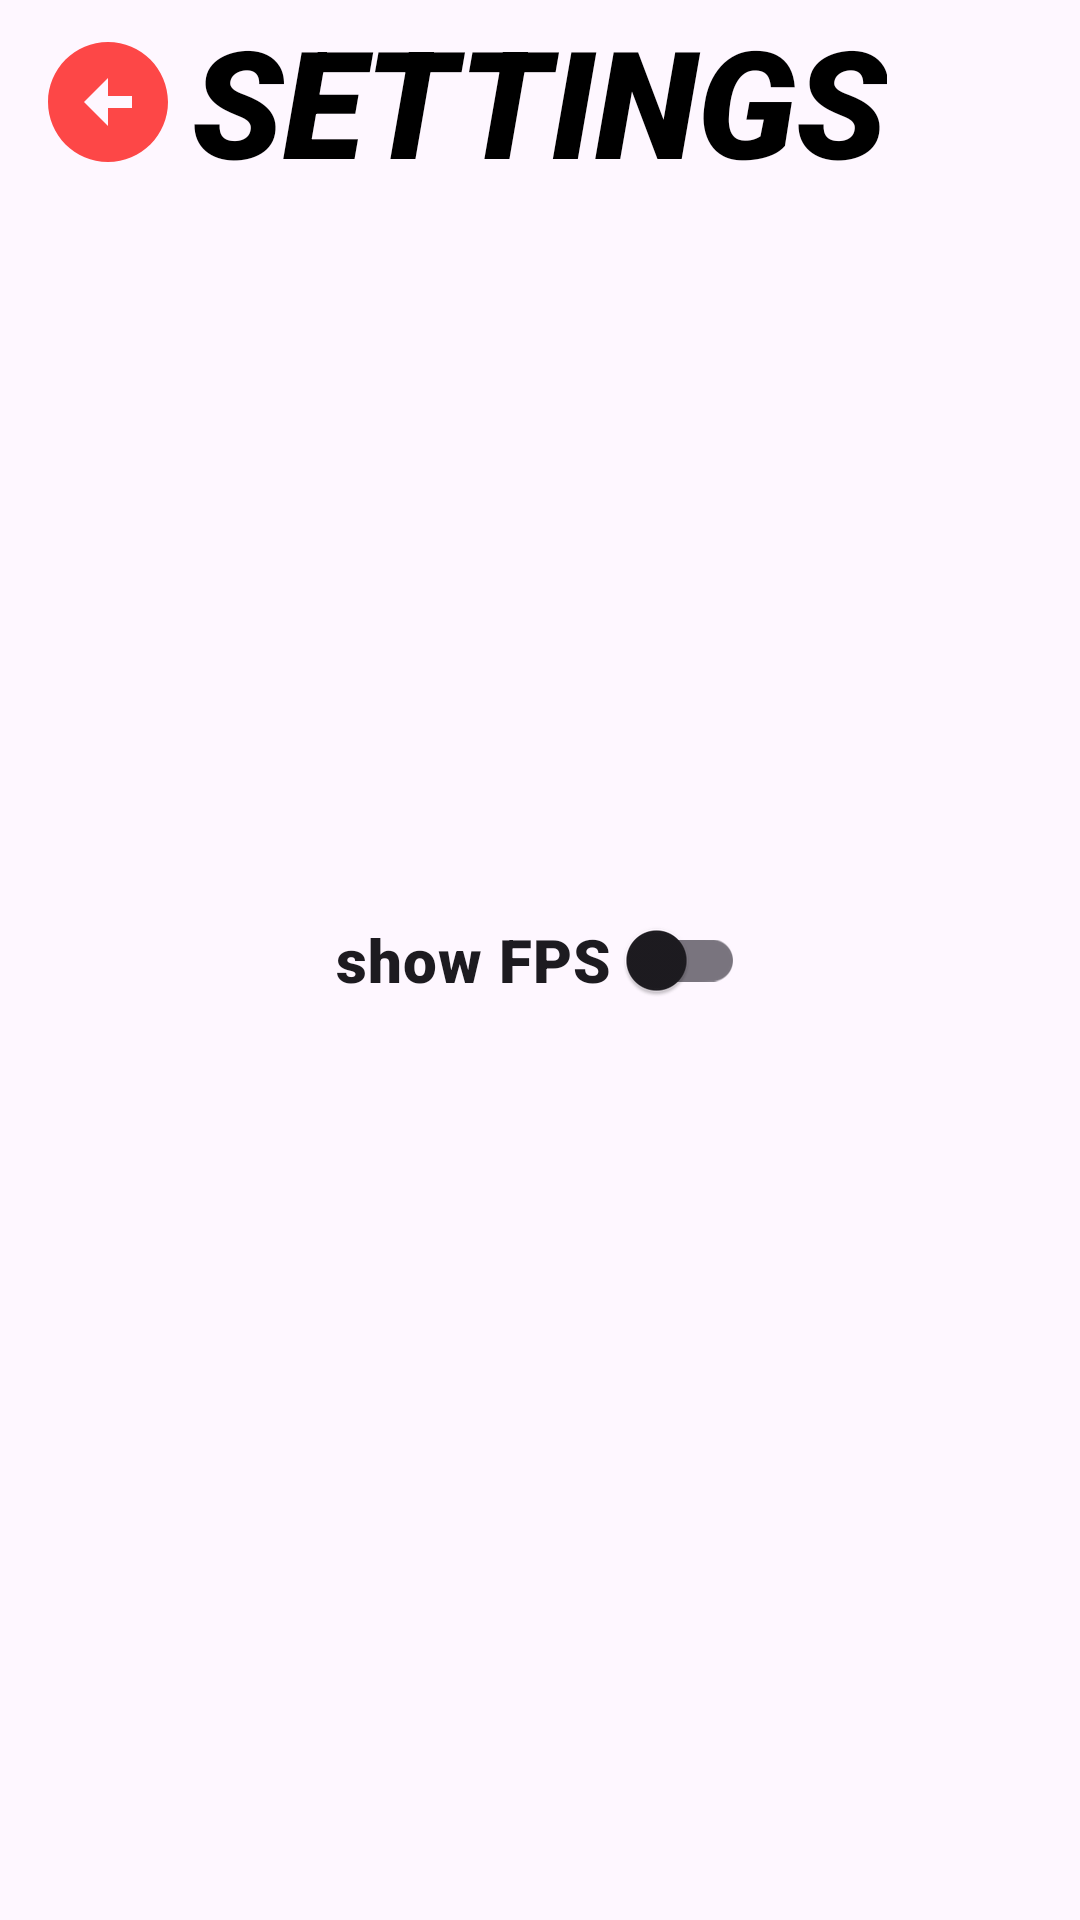

Icons on this 1080 × 1920 Android screen, each with the point to tap as point (x, y):
back arrow: point (108, 102)
